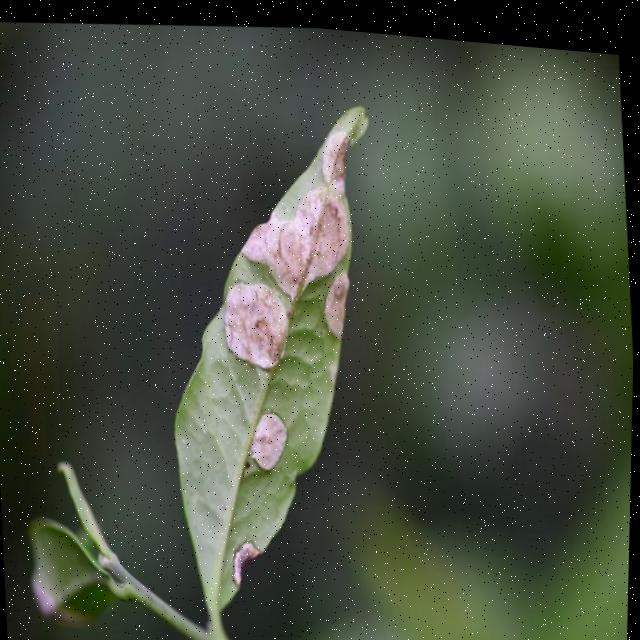Tea cake: (248, 121, 367, 270), (222, 262, 299, 367), (250, 399, 298, 474), (322, 265, 365, 332), (232, 520, 270, 586)
